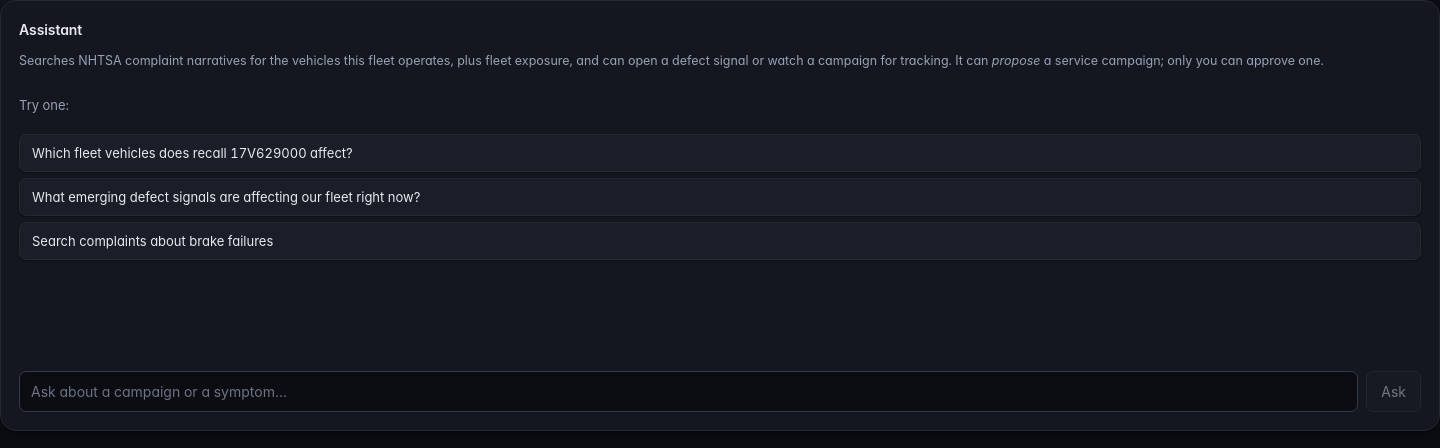
Test: Assistant › disables the Ask button while a draft is empty or a request is in flight
expect the button "Ask" is disabled: met, box [1366,371,1421,412]
Type "hello" into the field with placeholder "Ask about a campaign or a symptom…" at (689, 391), box [19,371,1358,412]
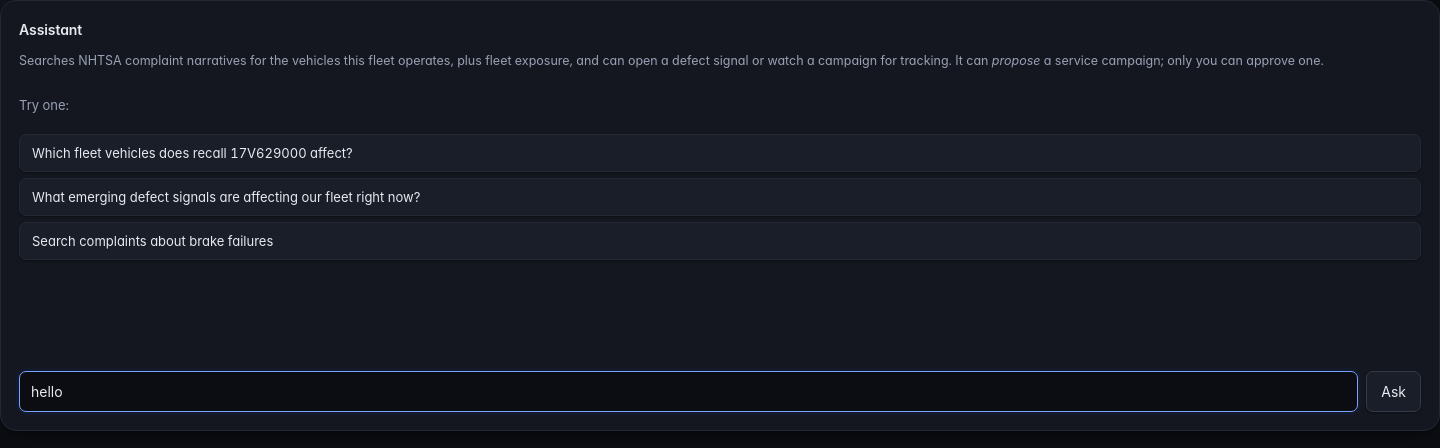
expect the button "Ask" is enabled: met
Click the button "Ask" at (1394, 391), box [1366,371,1421,412]
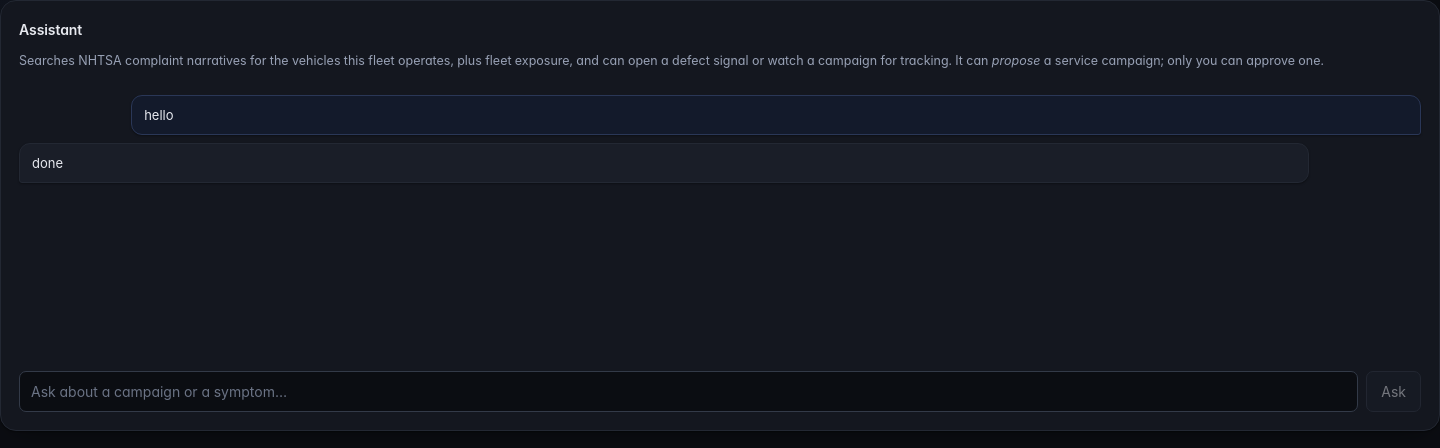
expect the button "Ask" is disabled: met, box [1366,371,1421,412]
